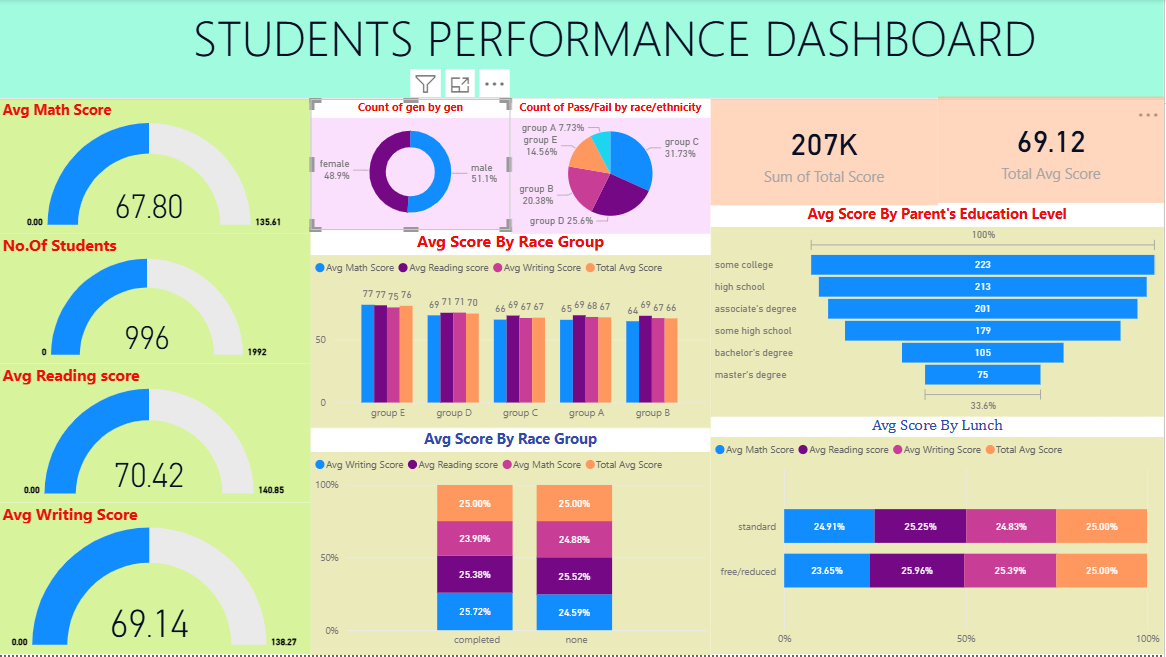

This screenshot's page, from the dashboard's own definition file:
{"tool":"powerbi","page":{"name":"Page 1","canvas":[1280,720],"ordinal":0},"visuals":[{"type":"gauge","fields":{"Y":["Worksheet.Avg Math Score"]},"box":[0,109.8,343.1,148.2],"z":0},{"type":"gauge","fields":{"Y":["Worksheet.Avg Reading score"]},"box":[0,400.7,343.1,152.3],"z":1000},{"type":"gauge","fields":{"Y":["Worksheet.Avg Writing Score"]},"box":[0,553,343.1,166],"z":2000},{"type":"gauge","fields":{"Y":["Worksheet.No.Of Students"]},"box":[0,258,343.1,142.7],"z":3000},{"type":"hundredPercentStackedColumnChart","title":"Avg Score By Race Group","fields":{"Y":["Worksheet.Avg Writing Score","Worksheet.Avg Reading score","Worksheet.Avg Math Score","Worksheet.Total Avg Score"],"Category":["Worksheet.test preparation course"]},"box":[343.1,470.7,439.1,249.7],"z":5000},{"type":"funnel","title":"Avg Score By Parent''s Education Level","fields":{"Category":["Worksheet.parental level of education"],"Y":["CountNonNull(Worksheet.parental level of education)"]},"box":[782.8,223.3,497.5,235.7],"z":6000},{"type":"hundredPercentStackedBarChart","title":"Avg Score By Lunch","fields":{"Category":["Worksheet.lun"],"Y":["Worksheet.Avg Math Score","Worksheet.Avg Reading score","Worksheet.Avg Writing Score","Worksheet.Total Avg Score"]},"box":[782.8,458.9,497.5,260.5],"z":7000},{"type":"textbox","box":[0,0,1280.3,110.3],"z":8000},{"type":"clusteredColumnChart","title":"Avg Score By Race Group","fields":{"Category":["Worksheet.race/ethnicity"],"Y":["Worksheet.Avg Math Score","Worksheet.Avg Reading score","Worksheet.Avg Writing Score","Worksheet.Total Avg Score"]},"box":[343.1,253.9,439.1,216.8],"z":9000},{"type":"card","fields":{"Values":["Sum(Worksheet.Total Score)"]},"box":[782.2,109.8,249.7,116.6],"z":10000},{"type":"card","fields":{"Values":["Worksheet.Total Avg Score"]},"box":[1031.9,107,248.4,116.6],"z":11000},{"type":"donutChart","fields":{"Y":["CountNonNull(Worksheet.gen)"],"Category":["Worksheet.gen"]},"box":[343.1,109.8,219.6,144.1],"z":12000},{"type":"pieChart","fields":{"Y":["CountNonNull(Worksheet.Pass/Fail)"],"Category":["Worksheet.race/ethnicity"]},"box":[562.6,109.8,219.6,148.2],"z":12001}]}

Visuals, with their boxes in screenshot pixels (x1, y1, x2, y2), scaled from the page's 1280x720 canvas onto the 1166x657 screenshot:
gauge - Worksheet.Avg Math Score: {"left": 0, "top": 100, "right": 313, "bottom": 235}
gauge - Worksheet.Avg Reading score: {"left": 0, "top": 366, "right": 313, "bottom": 505}
gauge - Worksheet.Avg Writing Score: {"left": 0, "top": 505, "right": 313, "bottom": 656}
gauge - Worksheet.No.Of Students: {"left": 0, "top": 235, "right": 313, "bottom": 366}
"Avg Score By Race Group" hundredPercentStackedColumnChart: {"left": 313, "top": 430, "right": 713, "bottom": 656}
"Avg Score By Parent''s Education Level" funnel: {"left": 713, "top": 204, "right": 1165, "bottom": 419}
"Avg Score By Lunch" hundredPercentStackedBarChart: {"left": 713, "top": 419, "right": 1165, "bottom": 656}
textbox: {"left": 0, "top": 0, "right": 1165, "bottom": 101}
"Avg Score By Race Group" clusteredColumnChart: {"left": 313, "top": 232, "right": 713, "bottom": 430}
card - Sum(Worksheet.Total Score): {"left": 713, "top": 100, "right": 940, "bottom": 207}
card - Worksheet.Total Avg Score: {"left": 940, "top": 98, "right": 1165, "bottom": 204}
donutChart - CountNonNull(Worksheet.gen) x Worksheet.gen: {"left": 313, "top": 100, "right": 513, "bottom": 232}
pieChart - CountNonNull(Worksheet.Pass/Fail) x Worksheet.race/ethnicity: {"left": 512, "top": 100, "right": 713, "bottom": 235}
